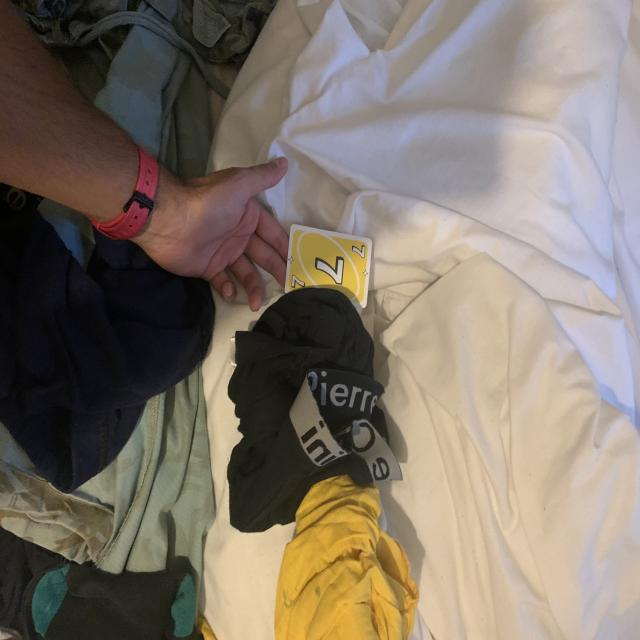lyellow-7: (350, 242, 367, 260)
